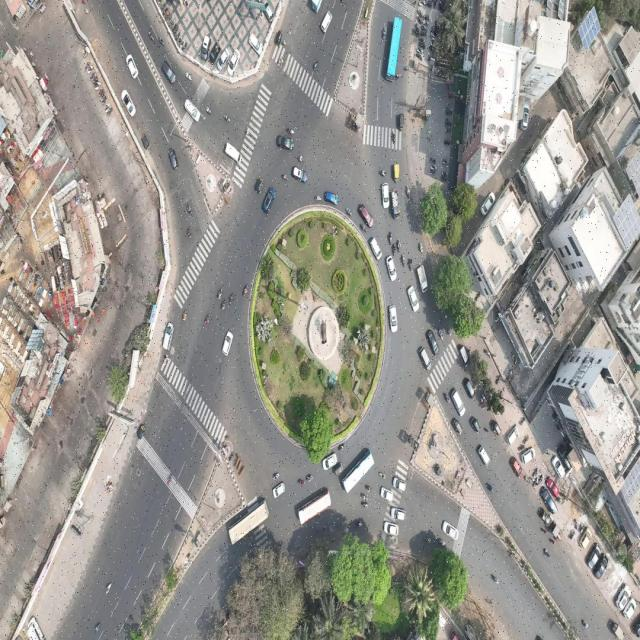3W: (141, 134, 151, 151), (453, 418, 463, 435), (471, 417, 481, 434), (255, 177, 264, 195), (333, 462, 343, 477), (492, 420, 501, 436), (276, 30, 283, 48), (398, 114, 404, 132), (394, 164, 399, 183)
Bus: (229, 500, 270, 545), (342, 449, 374, 494), (299, 490, 331, 525), (387, 18, 403, 83)
Cars: (541, 486, 557, 514), (593, 553, 609, 579), (452, 388, 466, 417), (121, 90, 136, 117), (587, 543, 602, 570), (227, 48, 241, 76), (481, 191, 496, 217), (616, 584, 630, 611), (262, 187, 276, 214), (185, 100, 201, 123), (427, 328, 440, 356), (248, 33, 263, 56), (442, 520, 459, 540), (162, 61, 176, 85), (359, 205, 374, 227), (126, 54, 139, 79), (552, 455, 566, 478), (163, 322, 174, 351), (277, 135, 295, 152), (420, 346, 432, 371), (217, 48, 230, 71), (322, 453, 338, 471), (580, 528, 593, 550), (510, 457, 523, 479), (408, 286, 419, 312), (200, 35, 211, 61), (521, 100, 530, 131), (222, 331, 233, 356), (386, 256, 397, 281), (506, 425, 519, 445), (168, 147, 179, 170), (371, 238, 382, 261), (624, 598, 636, 619), (547, 477, 559, 498), (478, 446, 490, 467), (321, 11, 333, 32), (263, 1, 274, 23), (522, 448, 536, 465), (389, 304, 397, 333), (210, 43, 220, 66), (391, 507, 406, 522), (293, 167, 307, 183), (460, 345, 470, 367), (385, 521, 399, 536), (393, 476, 406, 492), (380, 487, 393, 503), (382, 184, 390, 209), (325, 191, 338, 205), (273, 483, 285, 498), (466, 379, 475, 399)
LCV: (226, 143, 242, 163), (391, 188, 401, 220), (417, 265, 428, 293), (613, 623, 626, 640)
M2W: (148, 30, 155, 42), (487, 483, 494, 494), (159, 36, 165, 48), (95, 622, 101, 634), (346, 207, 353, 217), (182, 309, 187, 322), (438, 538, 446, 546), (361, 223, 367, 233), (512, 353, 517, 365), (523, 435, 529, 445), (545, 549, 551, 559), (106, 583, 112, 593), (205, 313, 210, 325), (221, 299, 226, 311), (187, 203, 192, 215), (383, 26, 387, 40), (409, 258, 413, 272), (423, 537, 431, 544), (305, 475, 313, 482), (445, 393, 450, 404), (186, 72, 192, 81), (206, 107, 212, 116), (313, 61, 319, 70), (486, 350, 492, 359), (297, 480, 306, 486), (406, 185, 410, 198), (392, 244, 396, 257), (168, 473, 172, 486), (244, 284, 248, 297), (570, 530, 575, 540), (583, 620, 588, 630), (245, 131, 252, 138), (298, 156, 305, 163), (355, 521, 362, 528), (361, 493, 368, 500), (365, 485, 372, 492), (445, 109, 453, 115), (439, 328, 443, 340), (230, 293, 234, 305), (520, 416, 525, 425), (219, 288, 223, 299), (225, 115, 231, 122), (289, 127, 295, 134), (283, 174, 289, 181), (315, 195, 322, 201), (380, 170, 387, 176), (449, 91, 455, 98), (445, 120, 452, 126), (445, 127, 452, 133), (442, 159, 449, 165), (429, 157, 436, 163), (429, 169, 436, 175), (398, 239, 401, 253), (338, 444, 345, 450), (274, 473, 280, 480), (187, 228, 191, 238), (389, 232, 392, 245), (402, 254, 405, 267), (393, 132, 396, 144), (519, 446, 525, 452), (362, 502, 368, 508), (379, 473, 385, 479), (444, 140, 451, 145), (441, 171, 448, 176), (494, 577, 499, 584), (420, 243, 423, 254), (396, 73, 401, 79), (441, 177, 447, 182), (431, 165, 437, 170)
